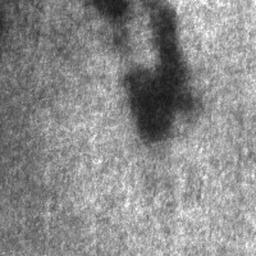Patches: (123, 0, 195, 143), (92, 0, 129, 19)
